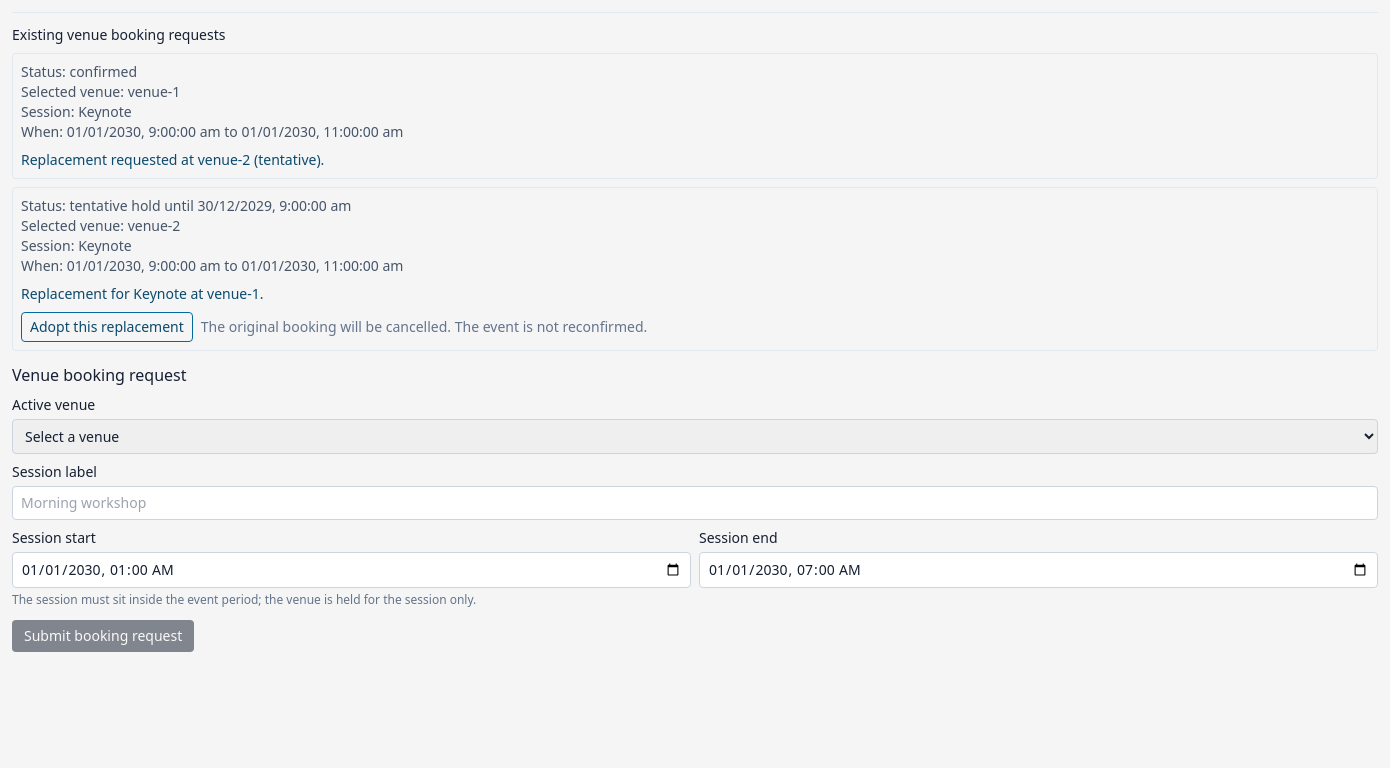
SCRUM-133 adopt a replacement › AC1: adopting an approved replacement shows it adopted and the original cancelled
Step 1. Click the button with aria-label "Adopt this replacement for Keynote" → (107, 327), box [21,312,193,342]
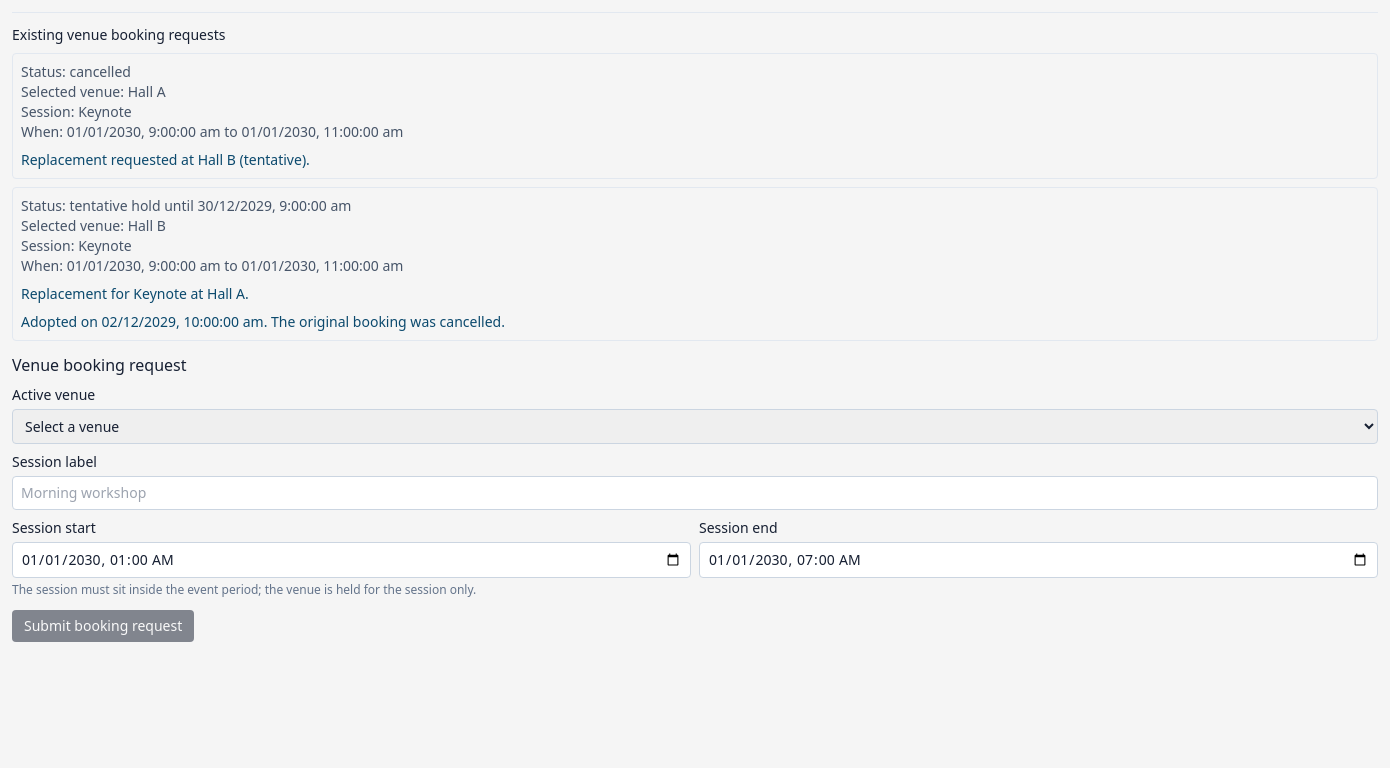
Check: the text "Adopted on 02/12/2029, 10:00:00 am. The original booking was cancelled." is shown, box [21,312,505,331]
Check: the text "cancelled" is shown, box [69,62,131,81]
